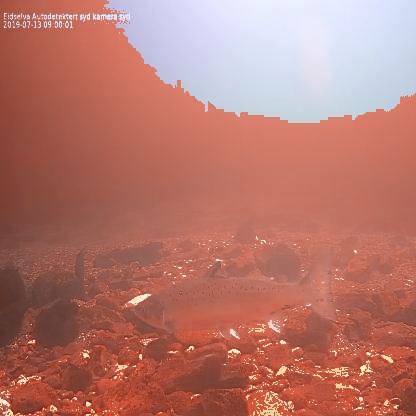salmon: (133, 244, 341, 342)
